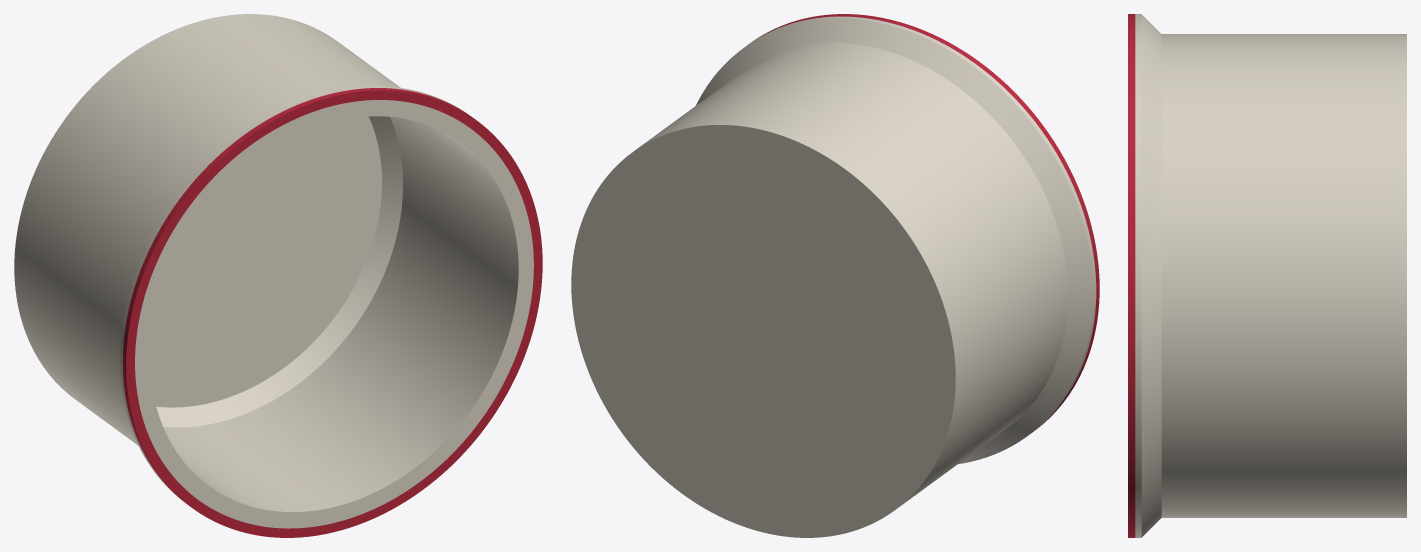
3 views of the same model, side by side, from view 1: azimuth 30°, elevation 25°; view 2: azimuth 150°, elevation 25°; view 3: azimuth 270°, elevation 25° (orthographic). The views are drawn at different scales.
Parts seen in each view (by area): view 1: B01_Snow, B01_ChristmasRed; view 2: B01_Snow, B01_ChristmasRed; view 3: B01_Snow, B01_ChristmasRed.
Part boxes in pixels (<box>): B01_Snow: <box>14,14,533,528</box>; B01_ChristmasRed: <box>122,88,542,537</box>; B01_Snow: <box>571,16,1096,537</box>; B01_ChristmasRed: <box>752,14,1099,430</box>; B01_Snow: <box>1135,14,1406,537</box>; B01_ChristmasRed: <box>1128,14,1135,537</box>.
Size of the model in its own units: 156 by 156 by 83.
